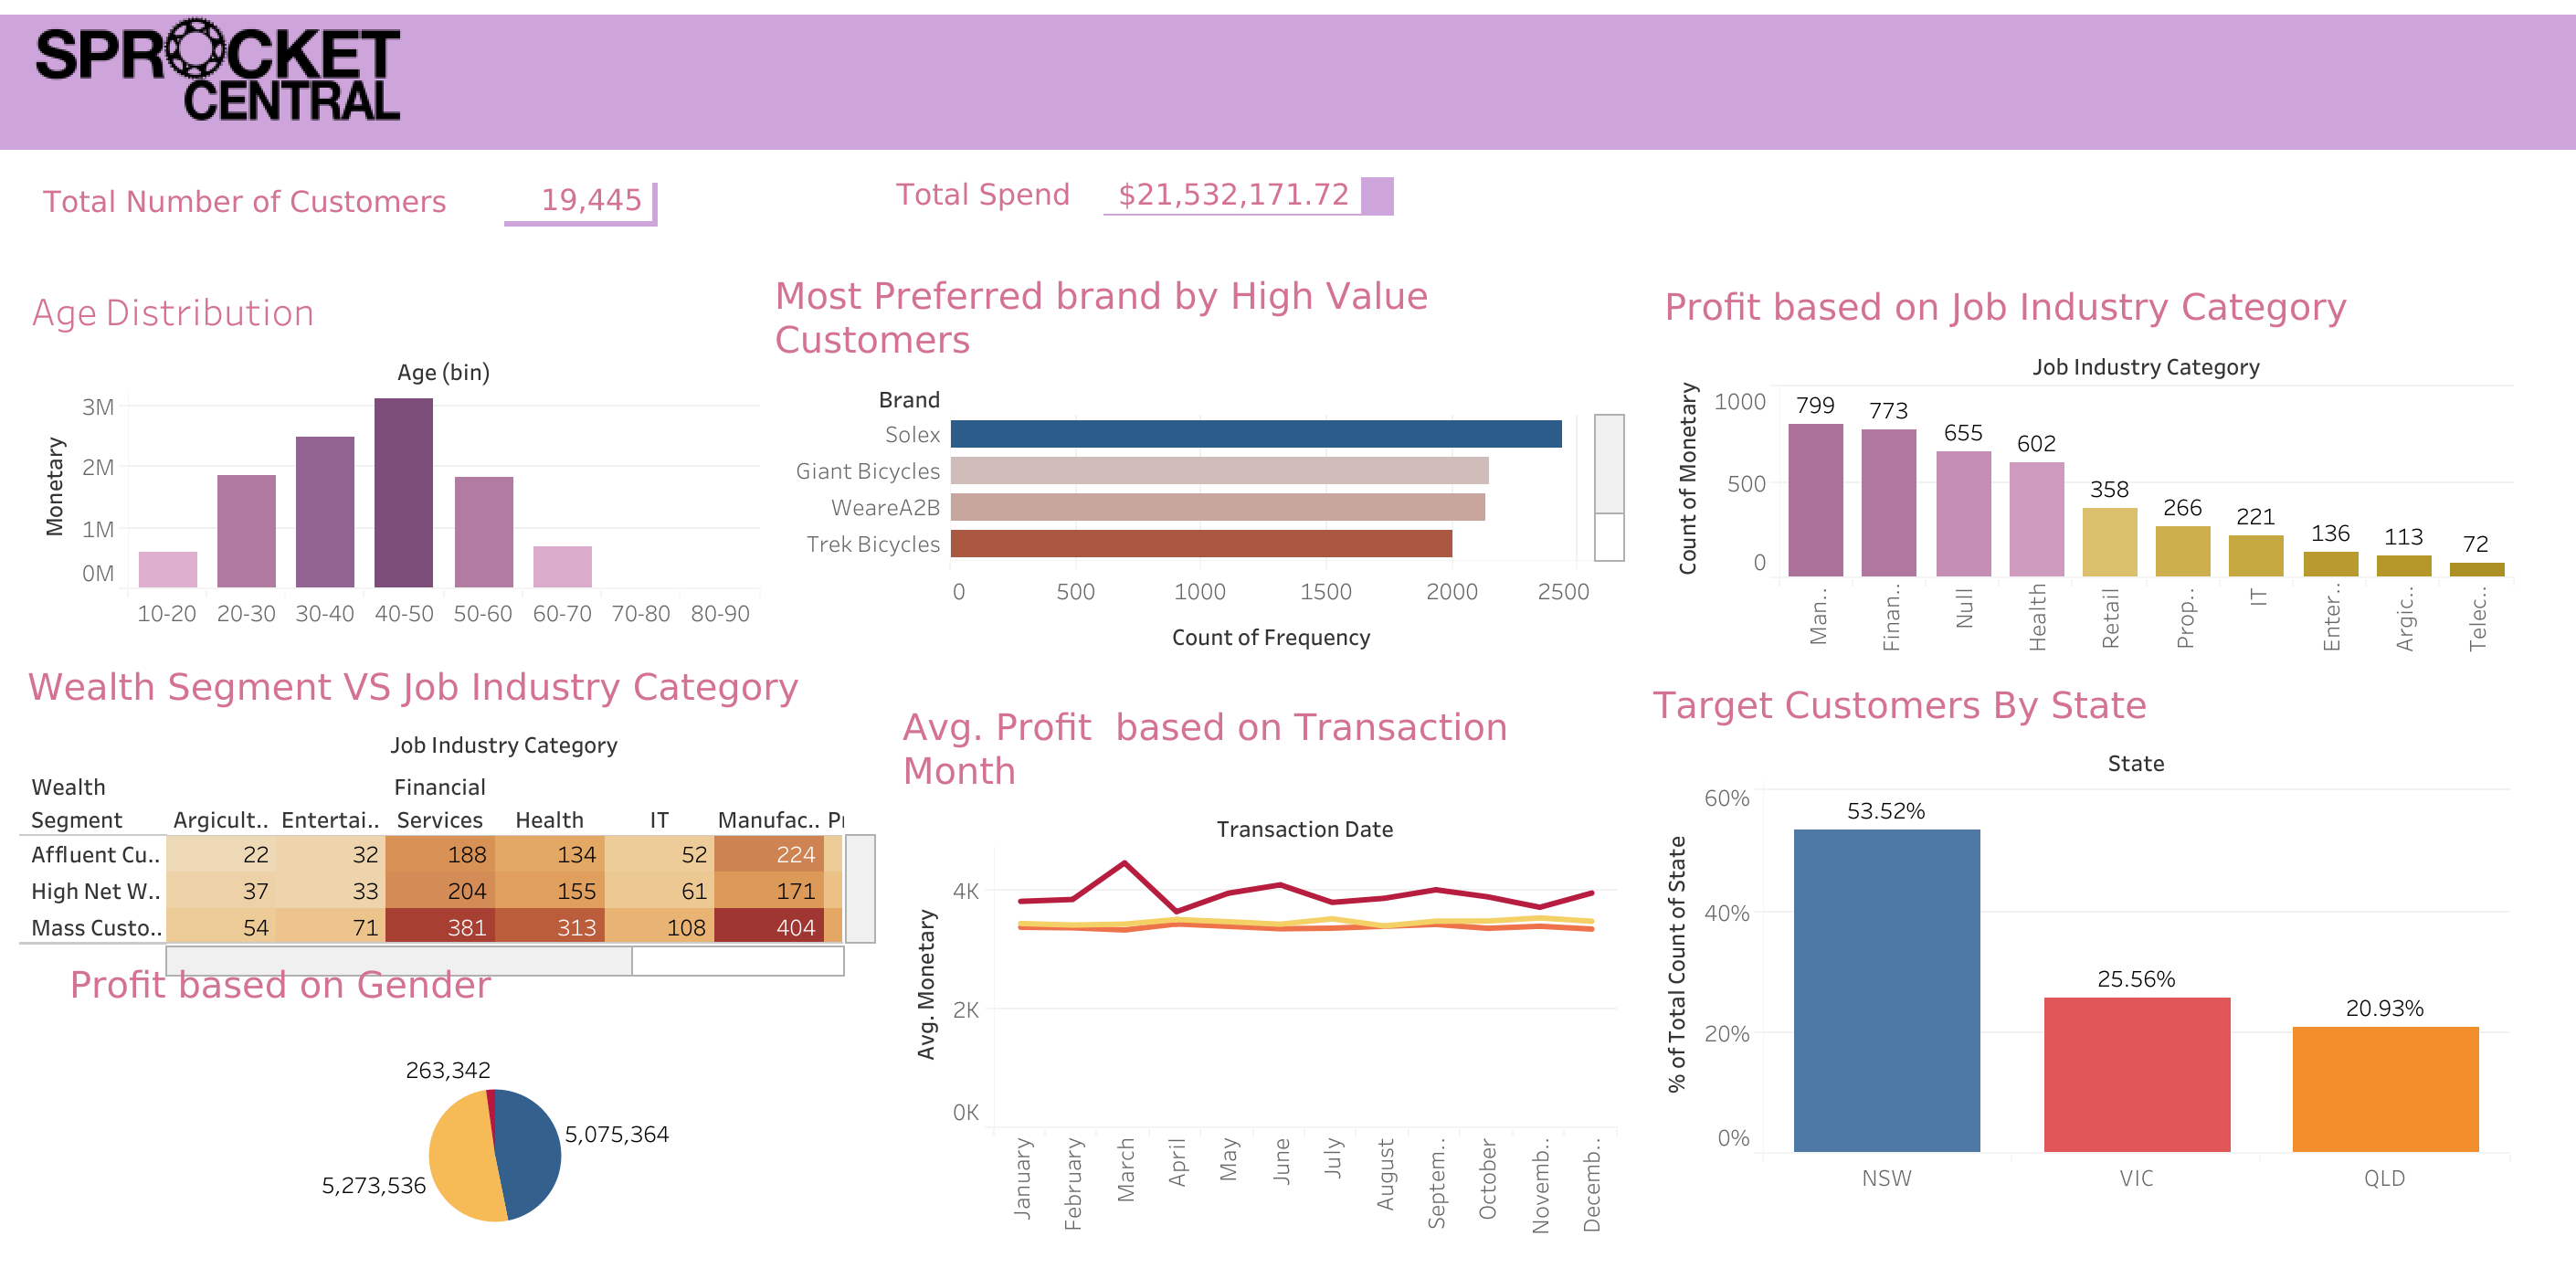

This screenshot's page, from the dashboard's own definition file:
{"tool":"tableau","page":{"name":"Dashboard 2","canvas":[1000,1000],"units":"permille","ordinal":1},"visuals":[{"type":"image","param":"Image/sprocket_central_logo.png","box":[13.3,13.3,380.8,102.1]},{"type":"text","box":[345.8,132.6,105,39.8]},{"type":"text","box":[15,137.9,165.8,39.8]},{"type":"worksheet","title":"Total spend","mark":"Automatic","box":[428.3,139.3,112.5,30.5]},{"type":"worksheet","title":"total customers","mark":"Automatic","box":[195.8,144.6,59.2,33.2]},{"type":"worksheet","title":"Most Preferred brand by High Value Customers","mark":"Automatic","rows":["brand"],"cols":["frequency"],"box":[297.5,206.9,333.3,317]},{"type":"worksheet","title":"Age Distribution","mark":"Automatic","rows":["monetary"],"cols":["Age (bin)"],"box":[9.2,216.2,285.8,274.5]},{"type":"worksheet","title":"Profit based on Job Industry Category","mark":"Automatic","rows":["monetary"],"cols":["job_industry_category"],"box":[642.5,216.2,332.5,301.1]},{"type":"worksheet","title":"Wealth Segment VS Job Industry Category","mark":"Automatic","rows":["wealth_segment"],"cols":["job_industry_category"],"box":[7.5,514.6,332.5,254.6]},{"type":"worksheet","title":"Target Customers By State","mark":"Automatic","rows":["state"],"cols":["state"],"box":[638.3,529.2,335.8,409.8]},{"type":"worksheet","title":"Avg. Profit  based on Transaction Month","mark":"Line","rows":["monetary"],"cols":["transaction_date"],"box":[347.5,546.4,280,428.4]}]}

Visuals, with their boxes on the dashboard's canvas, which has no fixed pixel size, in thousandths of its width and height (x1, y1, x2, y2). These are canvas units, not pixel positions in the 2576x1268 screenshot, which may show the page scaled, cropped or inside an application window:
image: locate(13, 13, 394, 115)
text: locate(346, 133, 451, 172)
text: locate(15, 138, 181, 178)
"Total spend" worksheet: locate(428, 139, 541, 170)
"total customers" worksheet: locate(196, 145, 255, 178)
"Most Preferred brand by High Value Customers" worksheet: locate(298, 207, 631, 524)
"Age Distribution" worksheet: locate(9, 216, 295, 491)
"Profit based on Job Industry Category" worksheet: locate(642, 216, 975, 517)
"Wealth Segment VS Job Industry Category" worksheet: locate(8, 515, 340, 769)
"Target Customers By State" worksheet: locate(638, 529, 974, 939)
"Avg. Profit  based on Transaction Month" worksheet (Line marks): locate(348, 546, 628, 975)
